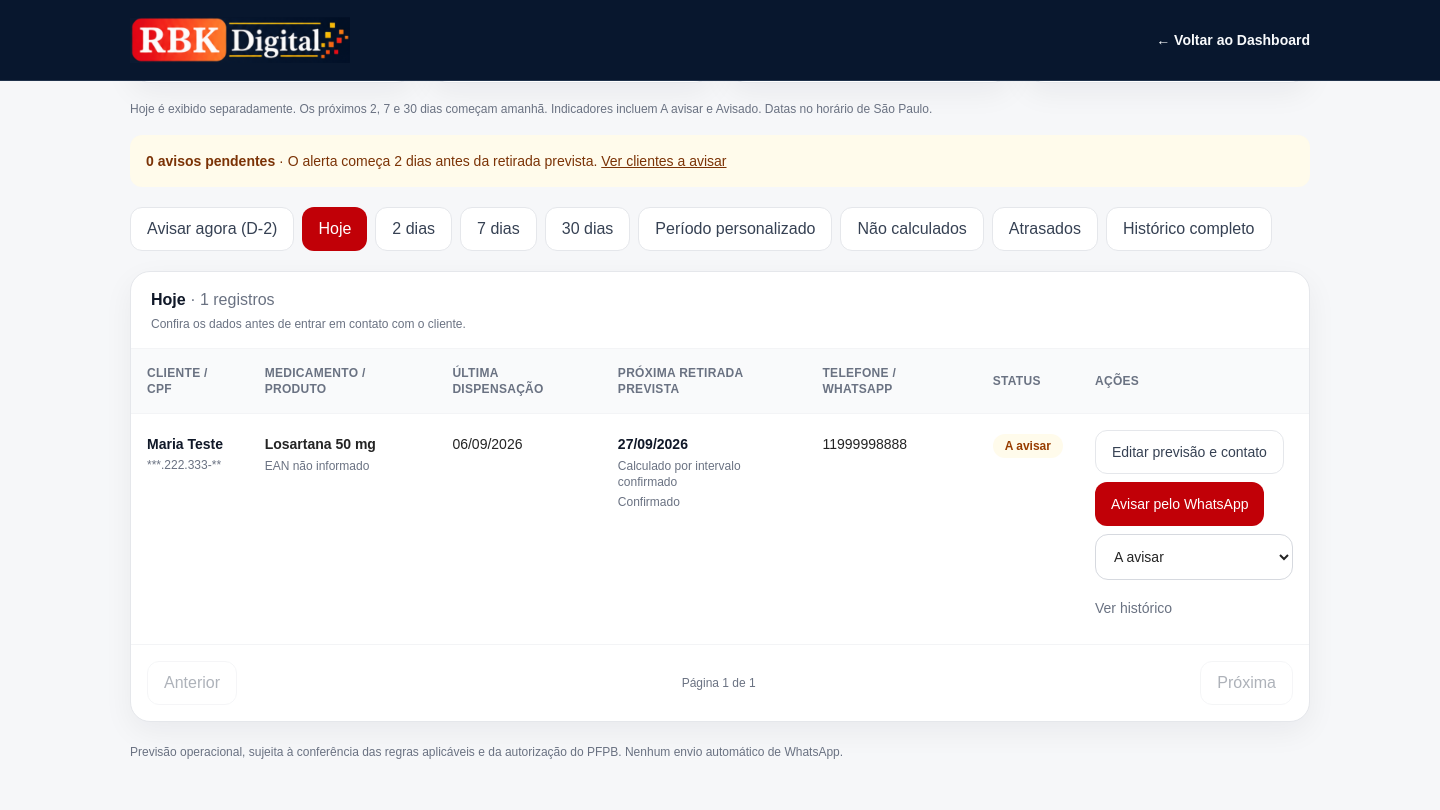
Test: exibe CPF somente mascarado e oferece completar dados e histórico
(page scrolled)
What coordinates should you click on to do the following:
click the button "Editar previsão e contato"
I would click on:
 (1189, 452)
Its box is [1095,430,1284,474].
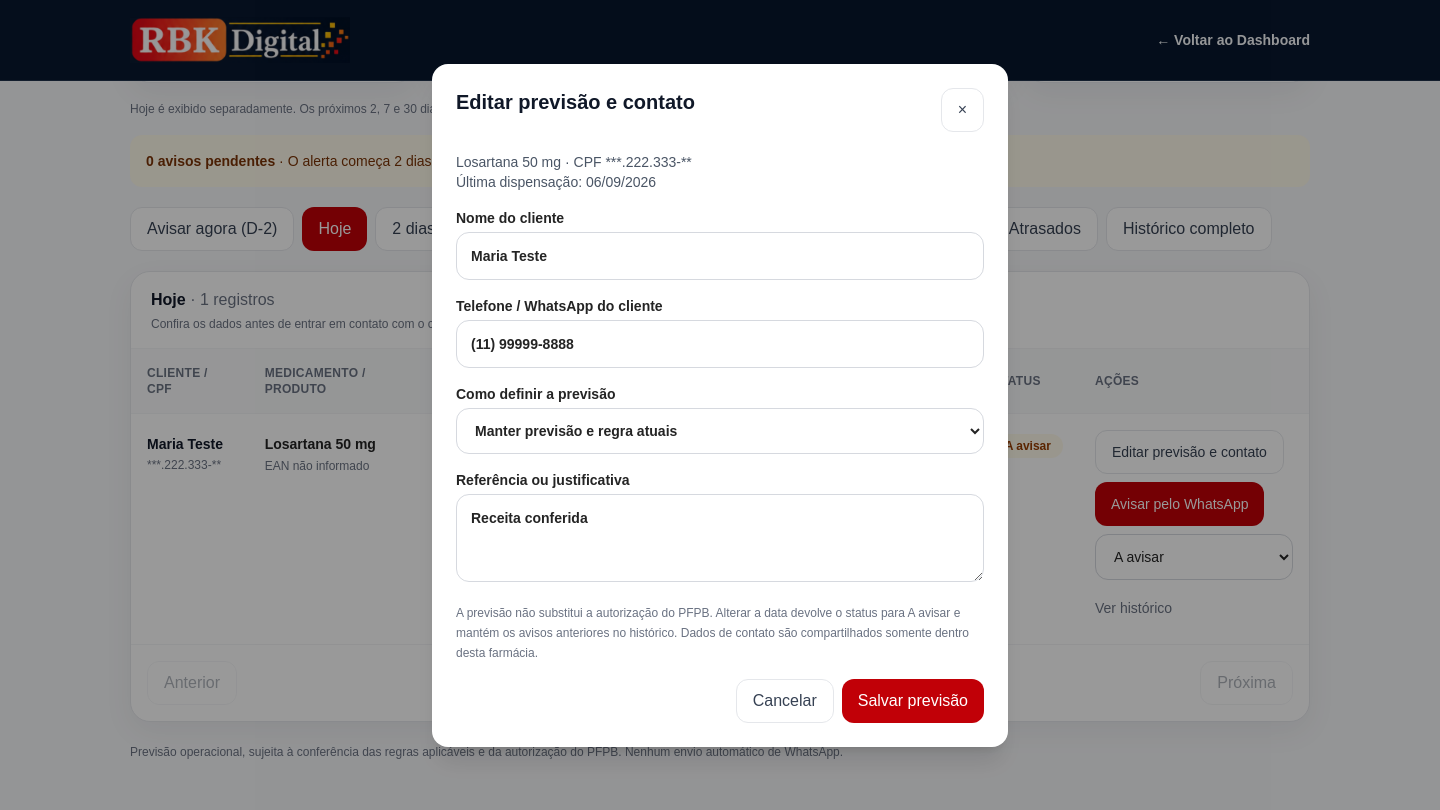
Expected: the dialog shows "Referência ou justificativa", [456,472,630,488]
